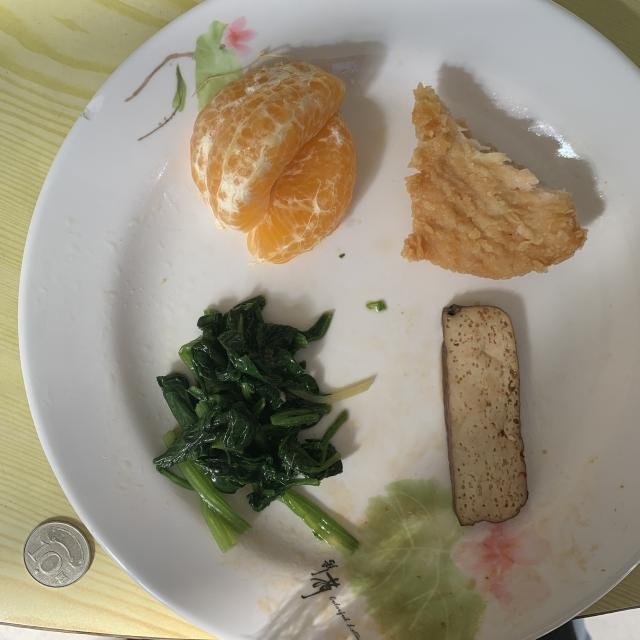coin: (24, 521, 90, 588)
firm tofu: (442, 305, 528, 525)
fried chicken cutlet: (401, 84, 588, 279)
mustard greens: (154, 296, 359, 554)
